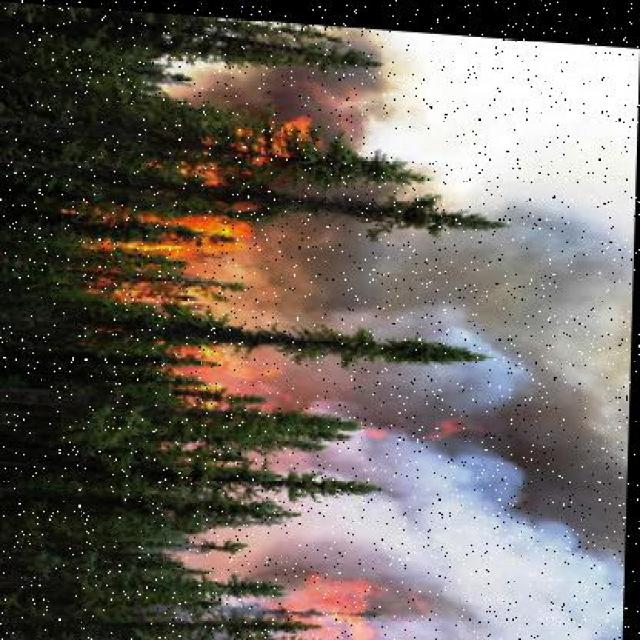fire: (79, 183, 300, 332)
